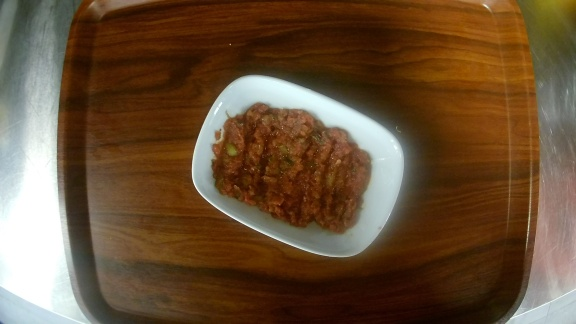acilimeze: (191, 73, 405, 256)
